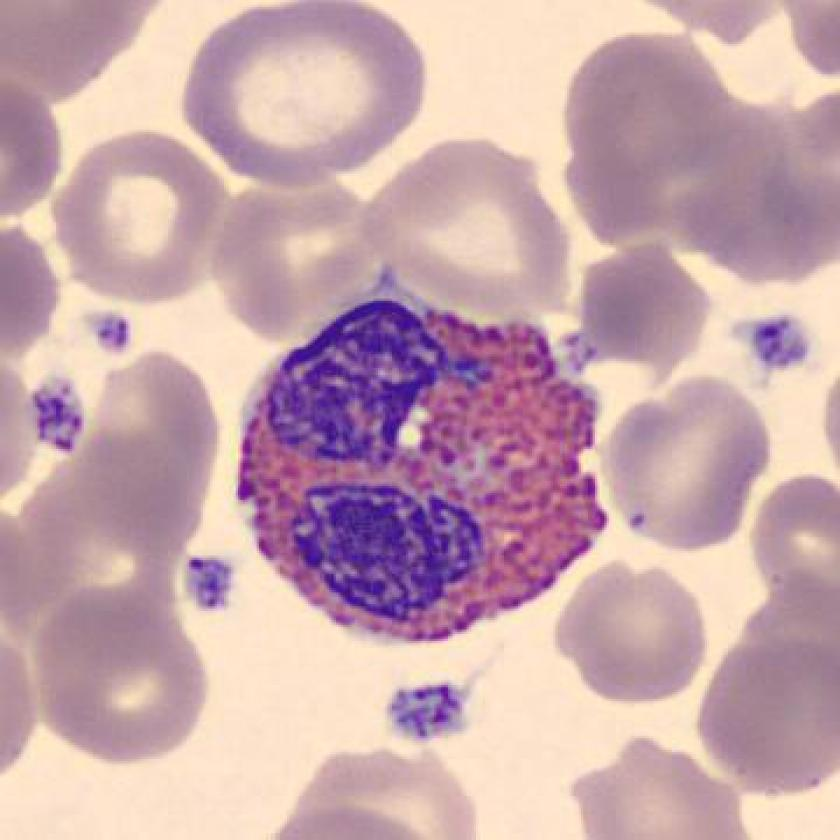eosinophil: (216, 276, 624, 656)
